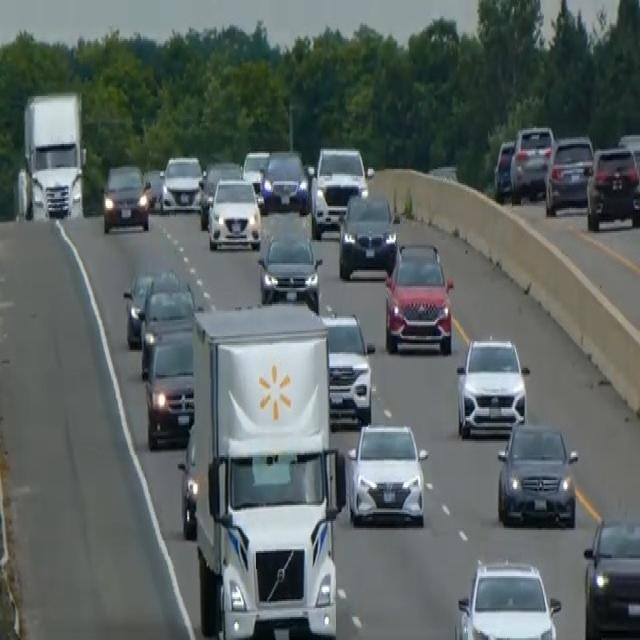car: (496, 418, 578, 528), (345, 420, 428, 526), (455, 556, 561, 638), (383, 238, 454, 356), (455, 334, 528, 439), (582, 514, 639, 638), (143, 327, 195, 450), (320, 309, 374, 423), (309, 144, 371, 238), (138, 276, 196, 375), (337, 188, 397, 281), (257, 228, 322, 311), (585, 142, 639, 231), (207, 174, 261, 251), (544, 133, 594, 215), (509, 122, 554, 202), (101, 162, 150, 233), (260, 148, 310, 214), (198, 158, 242, 228), (122, 268, 154, 346), (160, 153, 203, 211), (617, 131, 639, 217), (241, 148, 270, 202), (493, 137, 515, 201), (143, 166, 165, 212)
lorry: (179, 301, 342, 638), (16, 87, 87, 222)
